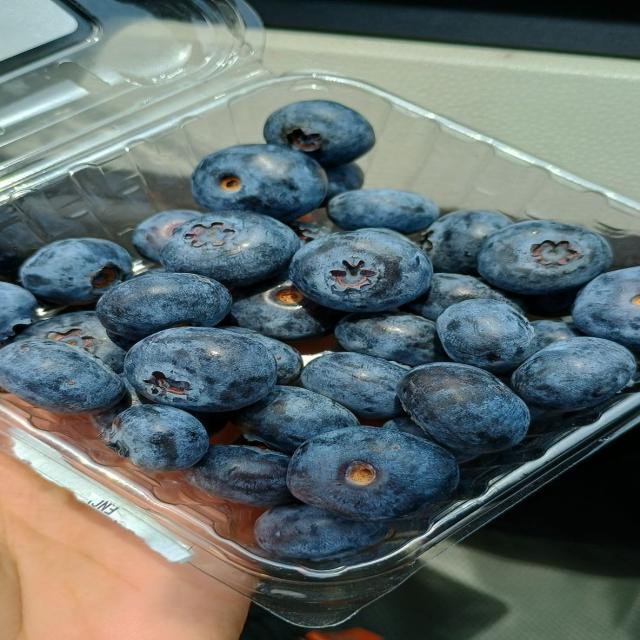blueberry: (287, 427, 458, 520), (125, 327, 276, 411), (399, 363, 529, 457), (289, 231, 432, 312), (192, 144, 327, 221), (161, 211, 299, 286), (478, 221, 612, 295), (0, 339, 125, 413), (96, 273, 231, 340), (512, 337, 635, 410), (233, 386, 358, 453), (436, 299, 537, 373), (254, 504, 387, 560), (20, 238, 131, 305), (230, 275, 342, 341), (100, 405, 208, 471), (264, 101, 374, 165), (300, 353, 406, 418), (15, 311, 126, 373), (185, 446, 293, 506), (334, 312, 446, 366), (423, 210, 512, 274), (573, 267, 639, 350), (406, 274, 519, 320), (327, 189, 439, 233), (224, 327, 303, 385), (133, 210, 200, 262), (89, 373, 142, 431), (0, 282, 38, 346), (516, 288, 580, 318), (325, 163, 364, 203), (531, 320, 579, 349), (381, 417, 435, 441), (290, 222, 332, 246), (359, 228, 417, 245), (381, 416, 426, 436), (106, 330, 138, 351), (134, 267, 169, 277)
